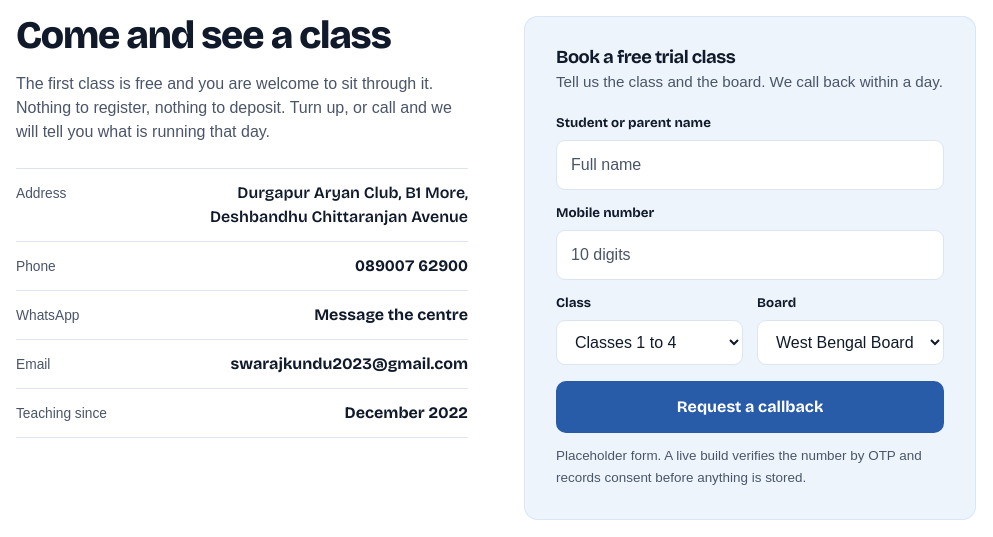
Test: VisitAndEnquire › ignores non-digits when counting the number length
In the field labelled "Student or parent name": coordinates (750, 165) [556,140,944,190], type "Test Parent"
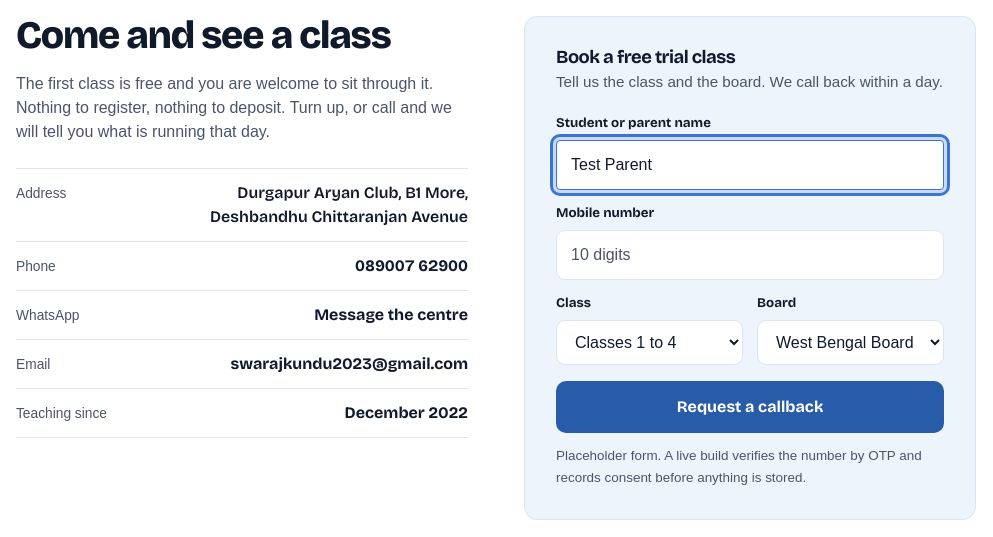
// Spaces and dashes are how people actually type phone numbers.
In the field labelled "Mobile number": coordinates (750, 255) [556,230,944,280], type "98765 43210"
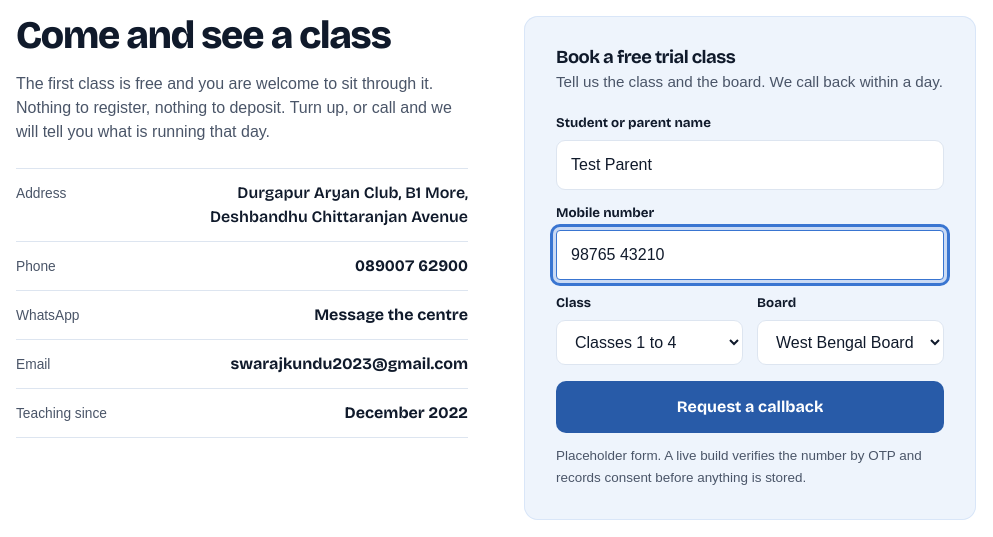
Click the button "Request a callback": coordinates (750, 407) [556,381,944,433]
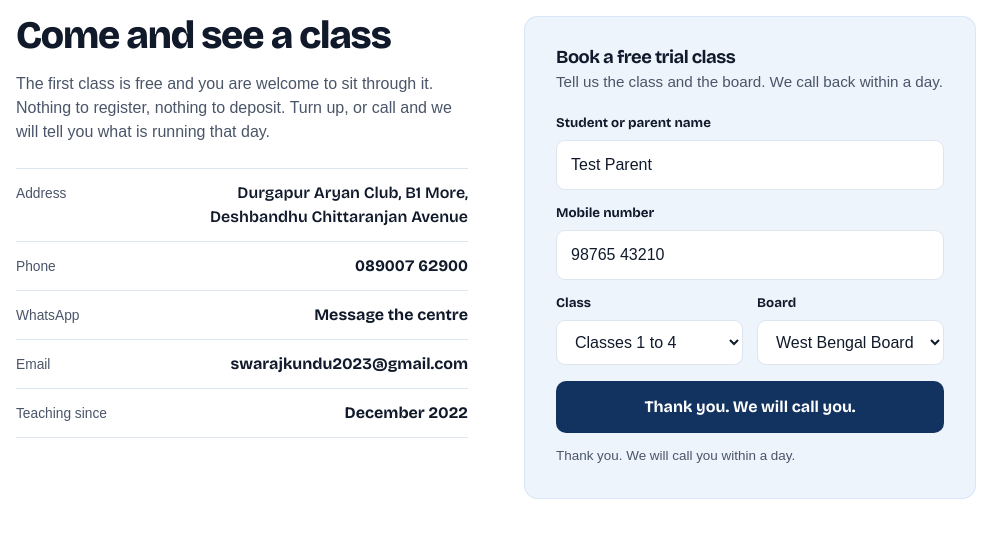
Expected: the message shows "We will call you", [556,448,795,463]
